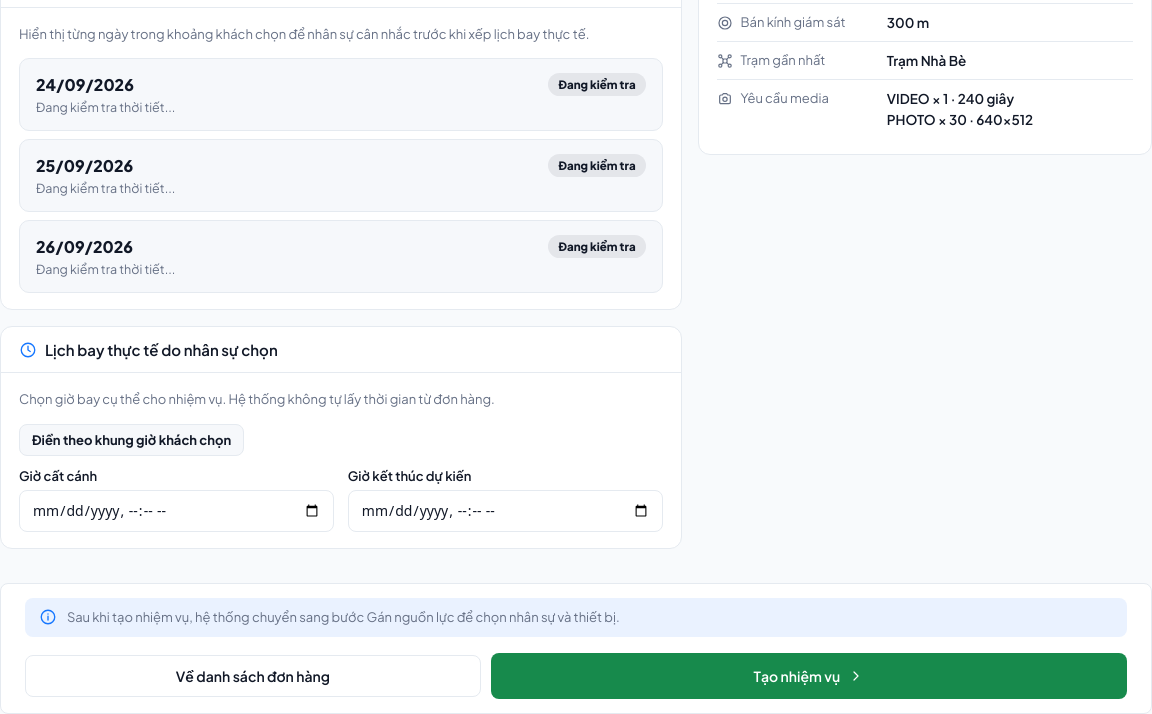
CreateMissionPage › 422 shows the design error copy with retry
(page scrolled)
Type "2026-09-24T08:00" into the field labelled "Giờ cất cánh".
click(176, 511); type("2026-09-24T08:00")  # box left=19, top=490, right=334, bottom=532
(page scrolled)
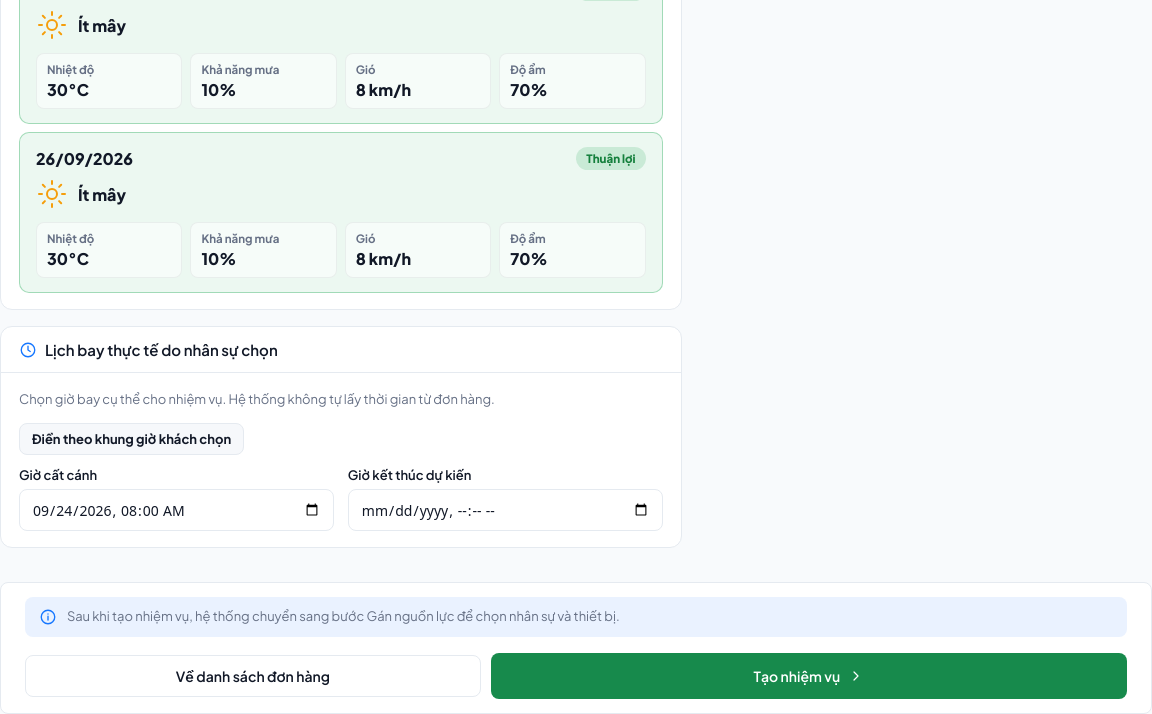
Type "2026-09-24T09:30" into the field labelled "Giờ kết thúc dự kiến".
click(505, 510); type("2026-09-24T09:30")  # box left=348, top=489, right=663, bottom=531
(page scrolled)
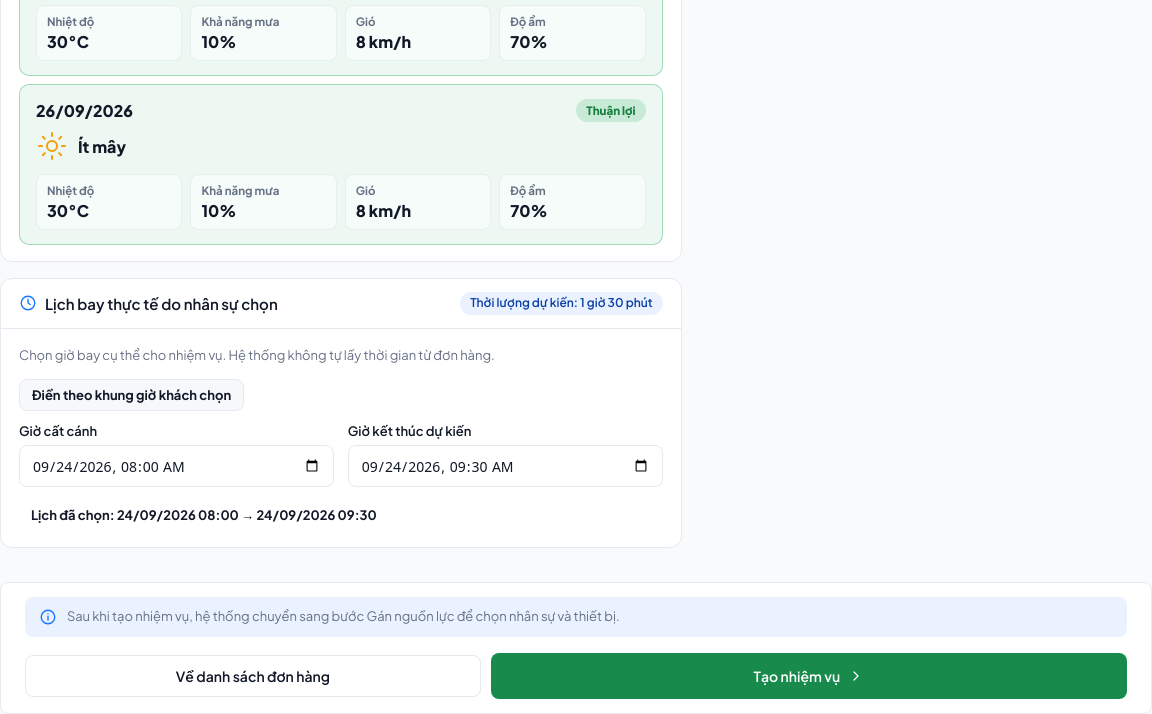
Click the button "Tạo nhiệm vụ".
click(809, 676)  # box left=491, top=652, right=1127, bottom=698
(page scrolled)
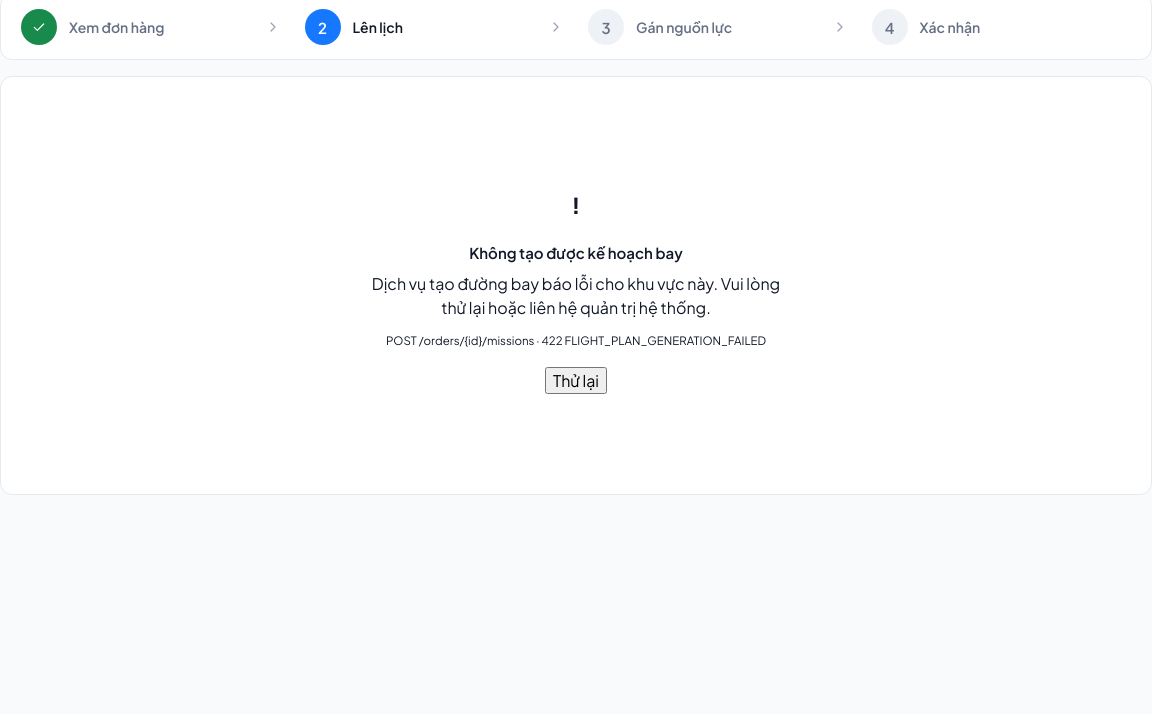
Check: the text "Không tạo được kế hoạch bay" is shown, box left=469, top=243, right=683, bottom=262
Check: the button "Thử lại" is shown, box left=545, top=367, right=607, bottom=394
